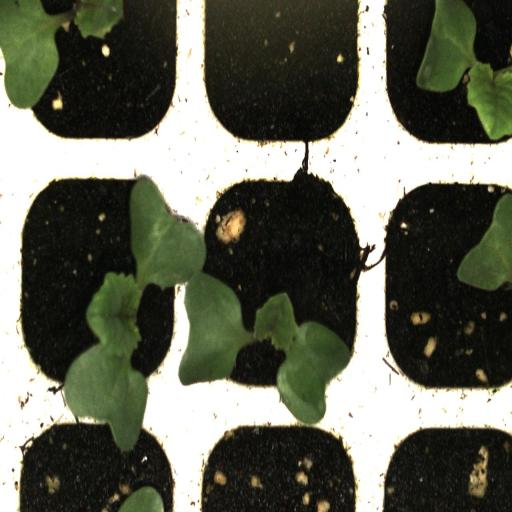Folha: (457, 193, 512, 291), (73, 0, 124, 39)
Germinacao: (184, 159, 376, 413), (2, 159, 186, 406), (0, 0, 185, 158), (377, 0, 512, 159)
